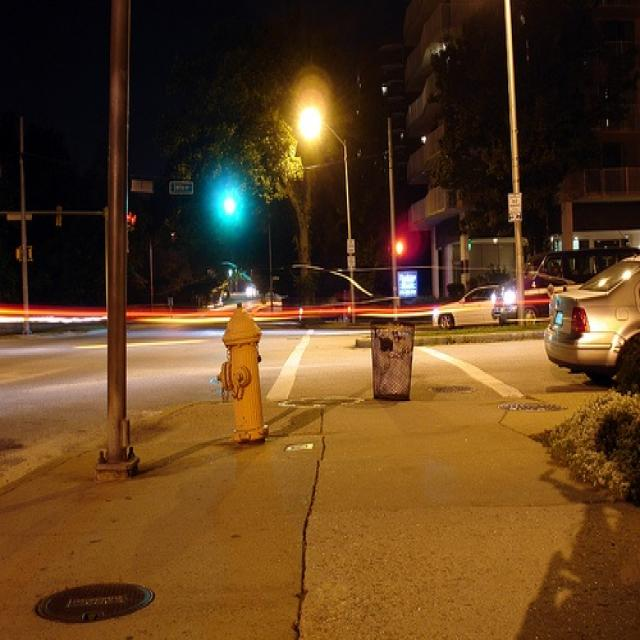car: (542, 253, 638, 377), (490, 270, 581, 322), (433, 285, 495, 328)
fire_hydrant: (209, 297, 266, 444)
pole: (95, 2, 138, 471), (501, 0, 526, 319)
